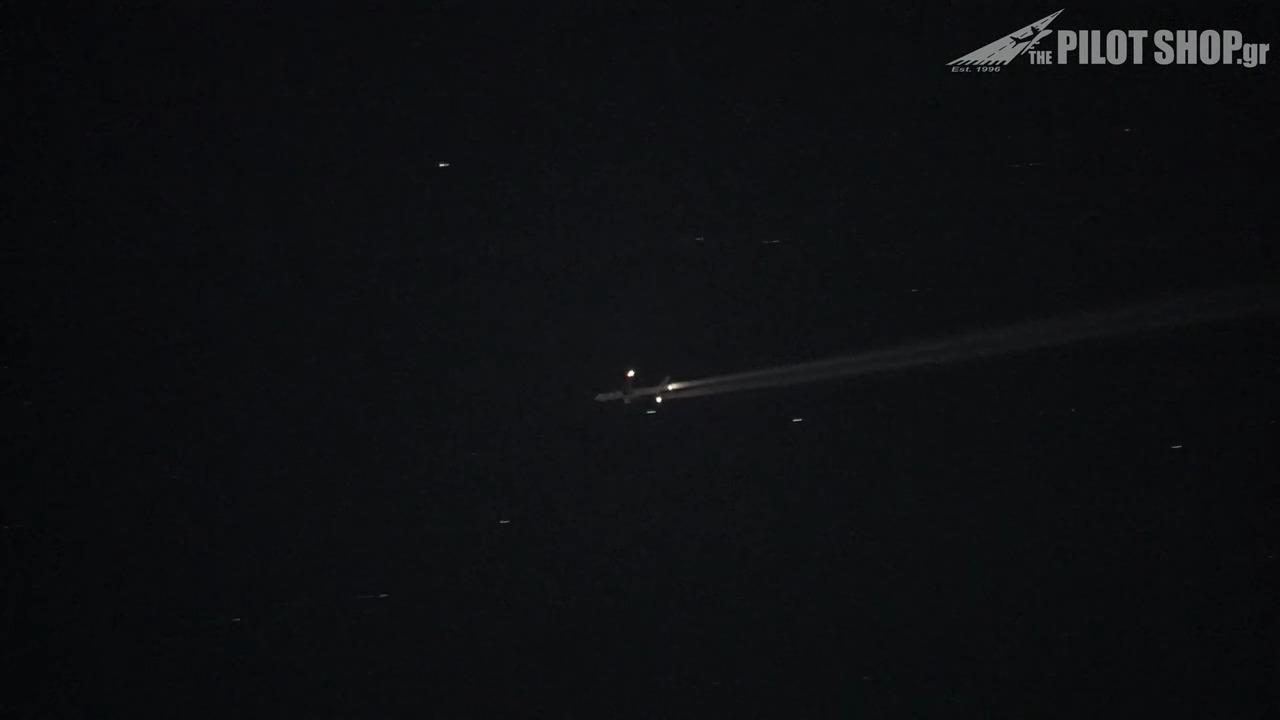Plane: (526, 360, 741, 427)
